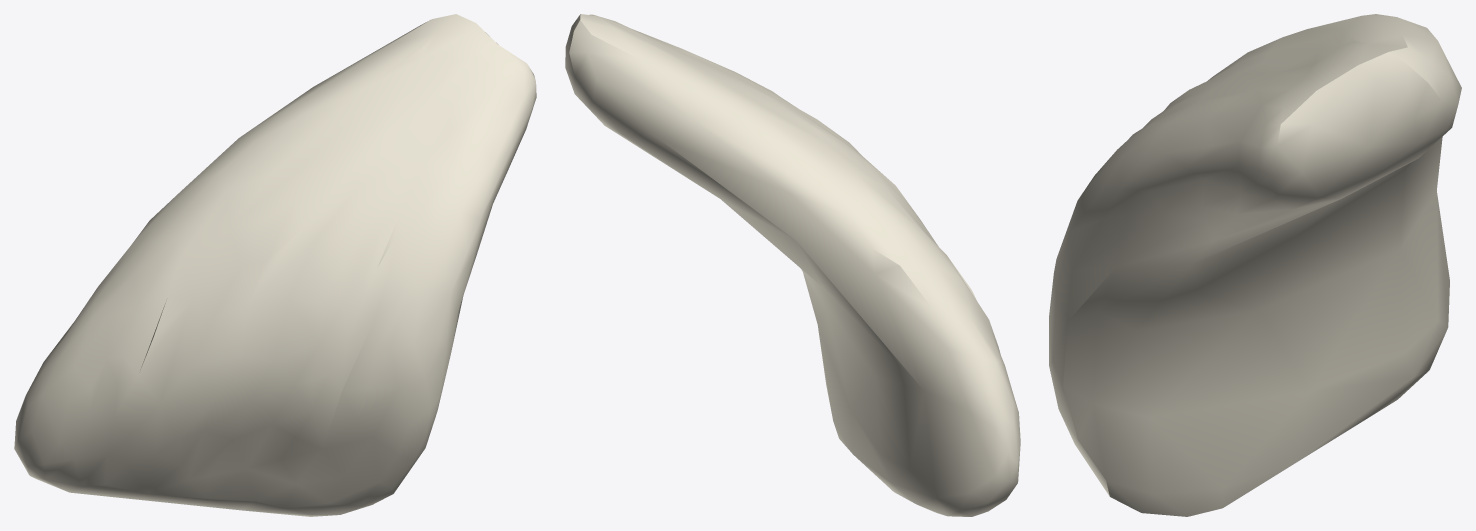
The model's file is fma73184_mm1445.glb.
3 renders of one model, left to right at view 1: azimuth 30°, elevation 25°; view 2: azimuth 150°, elevation 25°; view 3: azimuth 270°, elevation 25°, orthographic. The views are drawn at different scales.
Visible parts, largest first — view 1: FMA73184_MM1445; view 2: FMA73184_MM1445; view 3: FMA73184_MM1445.
Part boxes in pixels (x1,y1,x2,y2): FMA73184_MM1445: (14,14,536,516); FMA73184_MM1445: (565,14,1020,516); FMA73184_MM1445: (1049,14,1461,516).
Size of the model in its own units: 0.00962 by 0.00787 by 0.00486.
